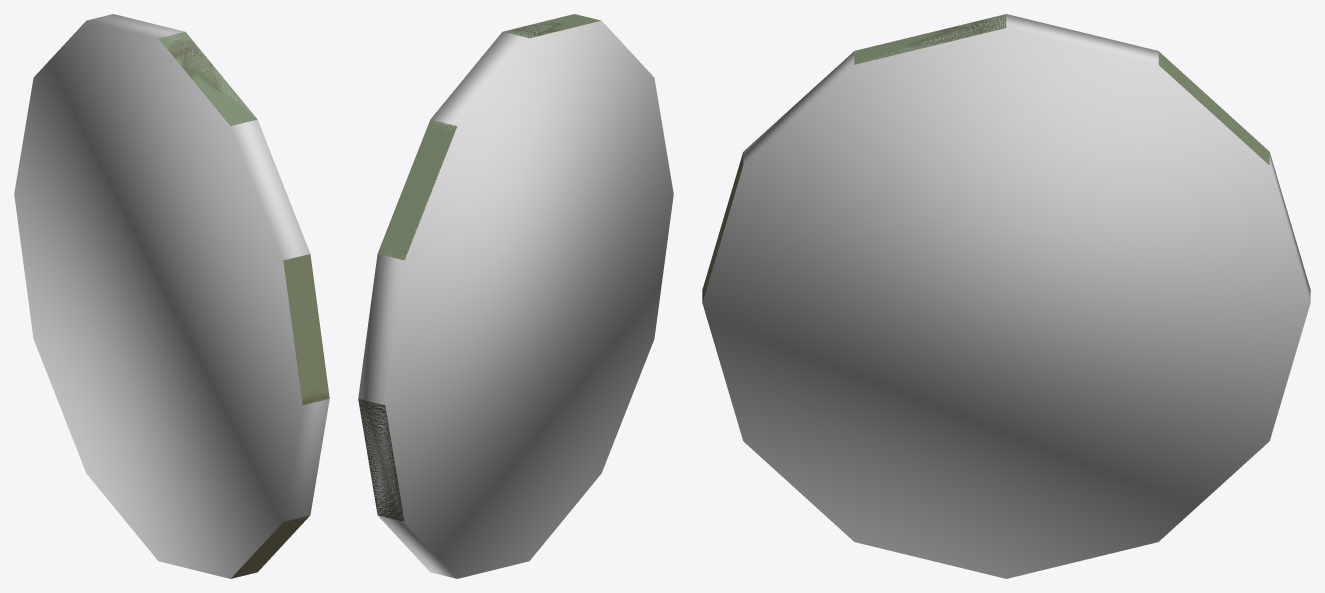
3 views of the same model, side by side, from view 1: azimuth 30°, elevation 25°; view 2: azimuth 150°, elevation 25°; view 3: azimuth 270°, elevation 25° (orthographic). The views are drawn at different scales.
Visible parts, largest first — view 1: rotor_kestrel_tail_01_col, rotor_kestrel_tail_01; view 2: rotor_kestrel_tail_01_col, rotor_kestrel_tail_01; view 3: rotor_kestrel_tail_01_col, rotor_kestrel_tail_01.
Boxes of the visible parts, x1,y1,x2,y2 form: rotor_kestrel_tail_01_col: [14, 14, 329, 578]; rotor_kestrel_tail_01: [158, 32, 329, 578]; rotor_kestrel_tail_01_col: [358, 15, 673, 578]; rotor_kestrel_tail_01: [358, 14, 600, 521]; rotor_kestrel_tail_01_col: [702, 14, 1310, 578]; rotor_kestrel_tail_01: [702, 14, 1269, 302].
Size of the model in its own units: 0.0551 by 1.02 by 1.02.
Materials: 1 (1 with a texture image).
